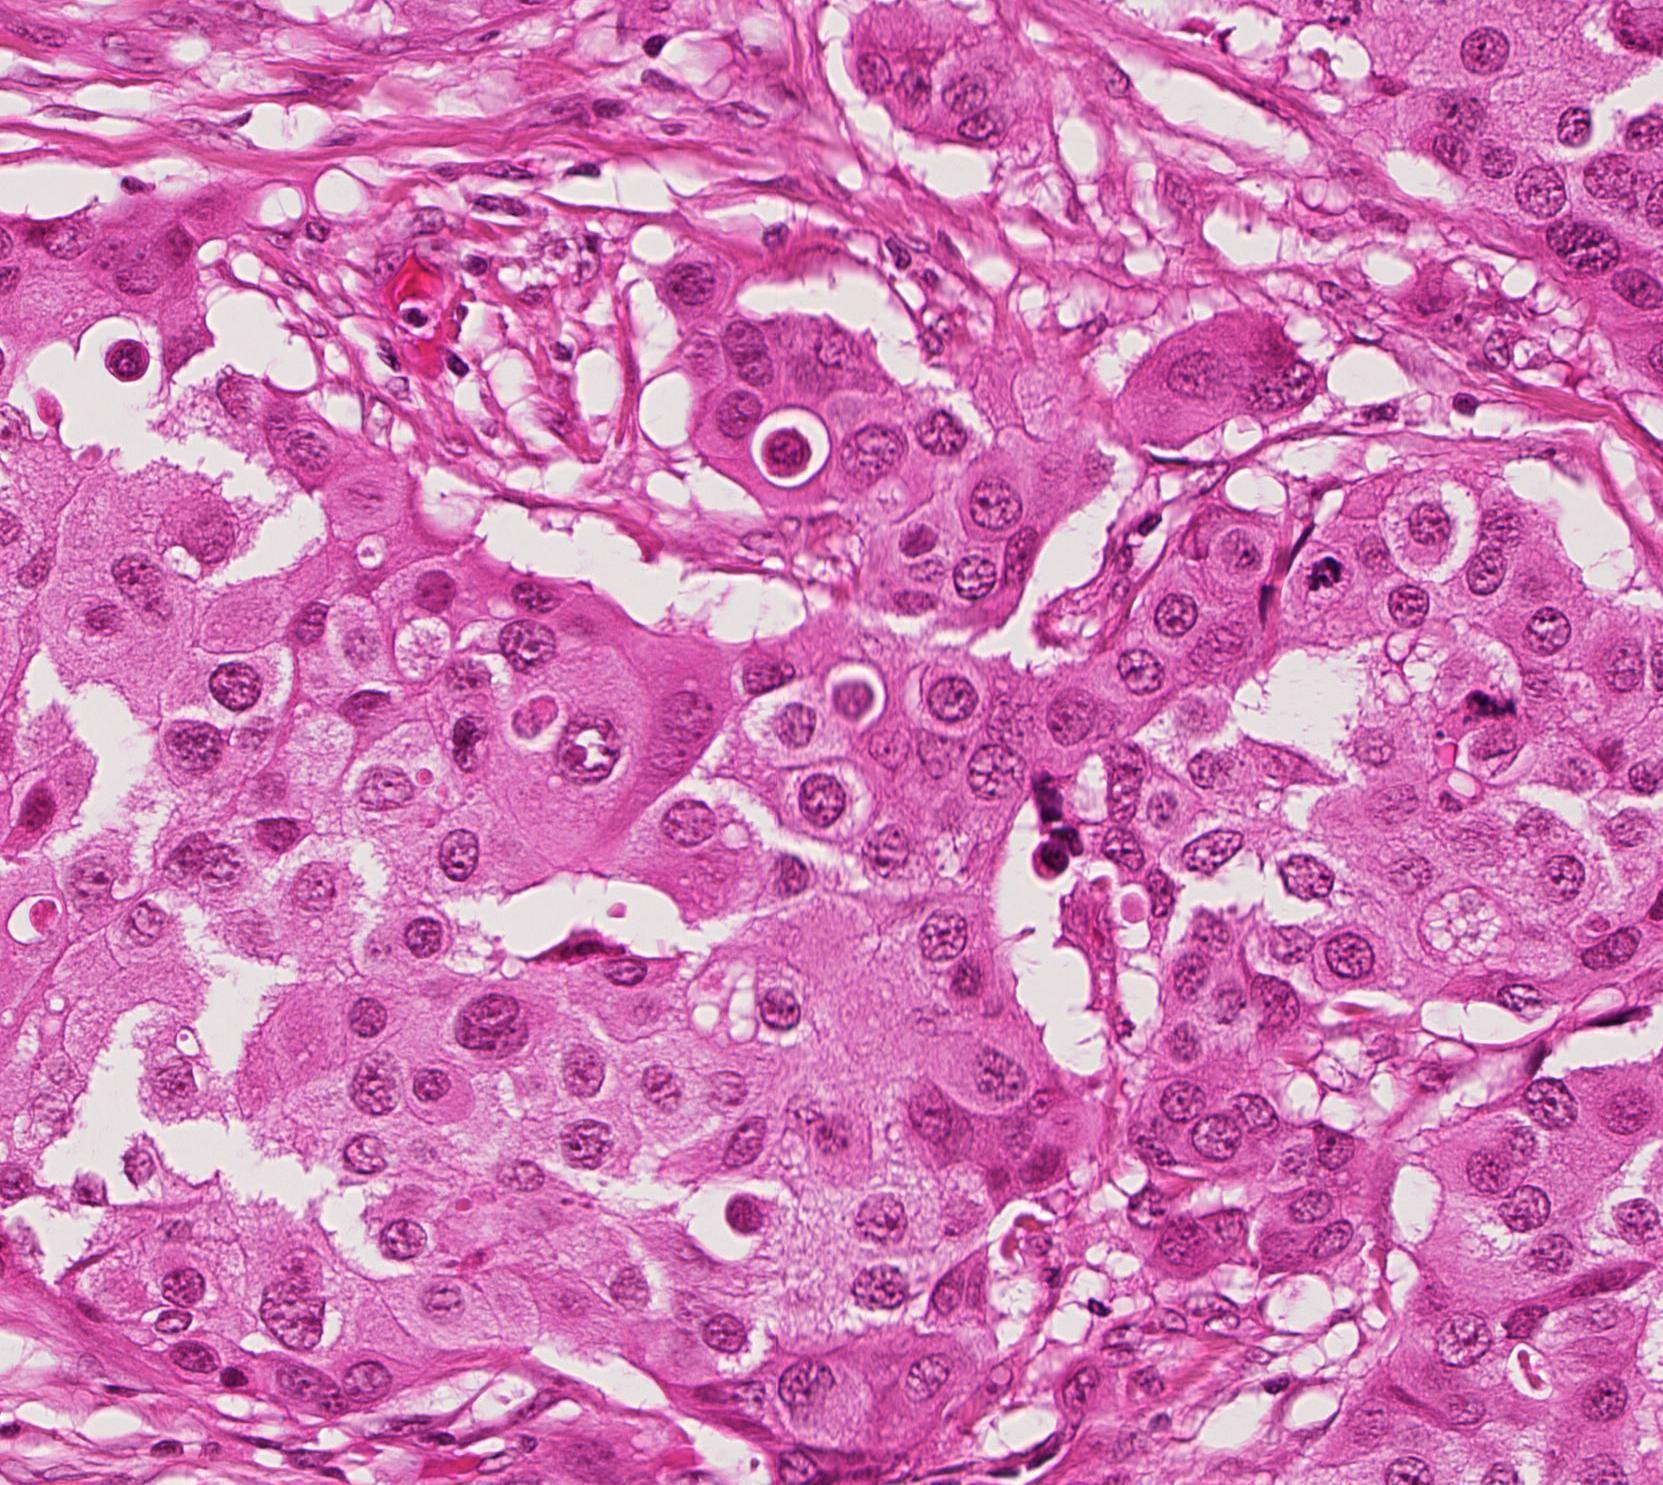mitosis: (1297, 546, 1358, 606)
